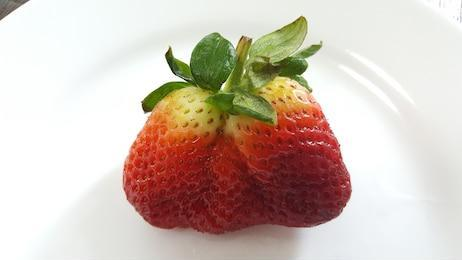Fresa: (119, 64, 356, 239)
